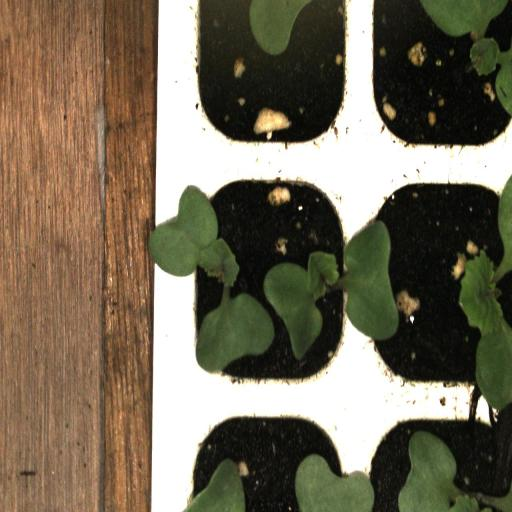twoseedling: (170, 164, 364, 400)
